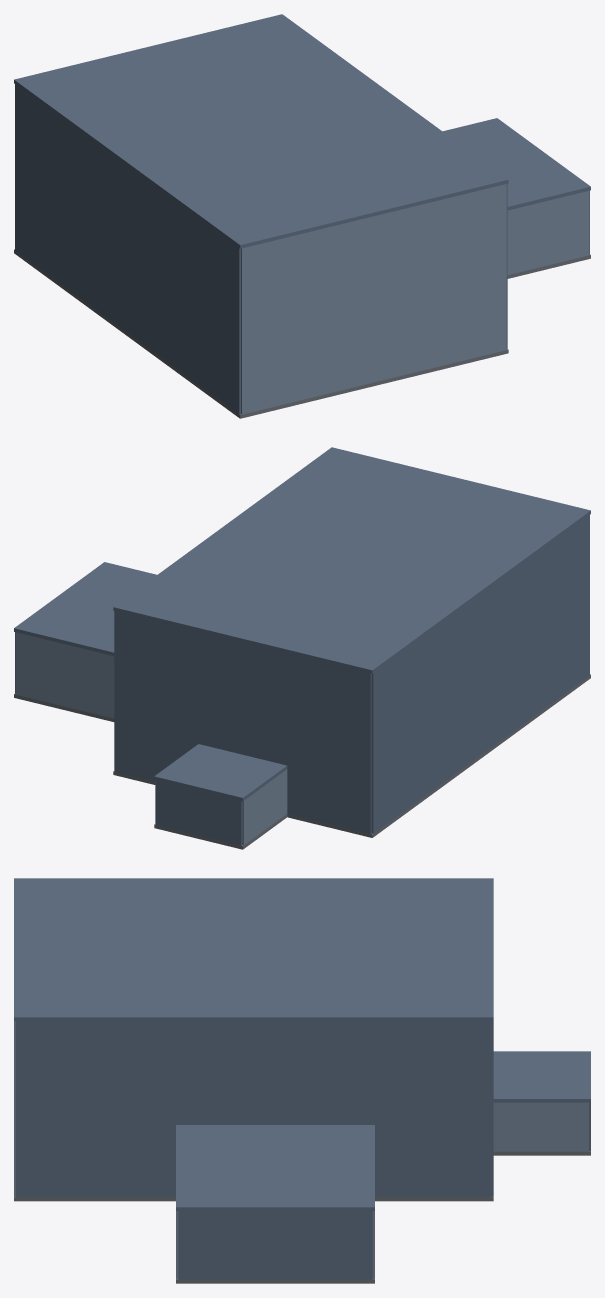
Rendered from inside_hall.glb.
3 renders of one model, top to bottom at view 1: azimuth 30°, elevation 25°; view 2: azimuth 150°, elevation 25°; view 3: azimuth 270°, elevation 25°, orthographic. The views are drawn at different scales.
Parts seen in each view (by area): view 1: inside_hall; view 2: inside_hall; view 3: inside_hall.
Boxes of the visible parts, <box> form: inside_hall: <box>14,14,590,418</box>; inside_hall: <box>14,447,590,849</box>; inside_hall: <box>14,878,590,1283</box>.
Size of the model in its own units: 48.4 by 18.8 by 53.4.
